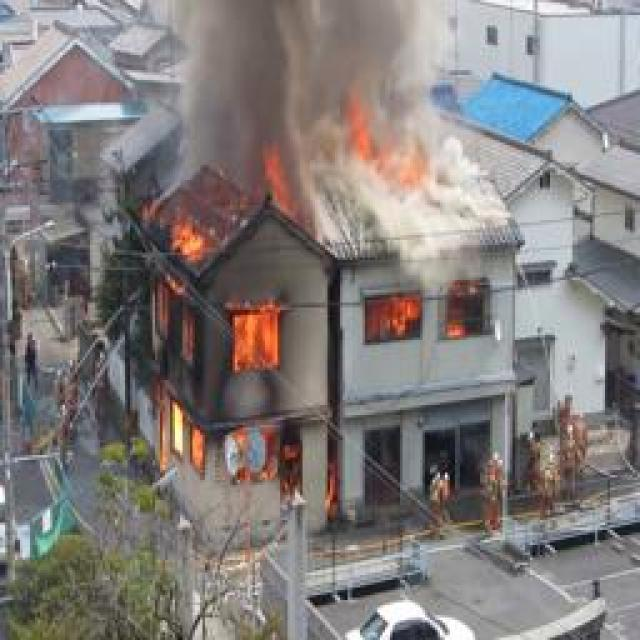Fire: (150, 180, 304, 488), (363, 288, 491, 338), (346, 86, 386, 169)
